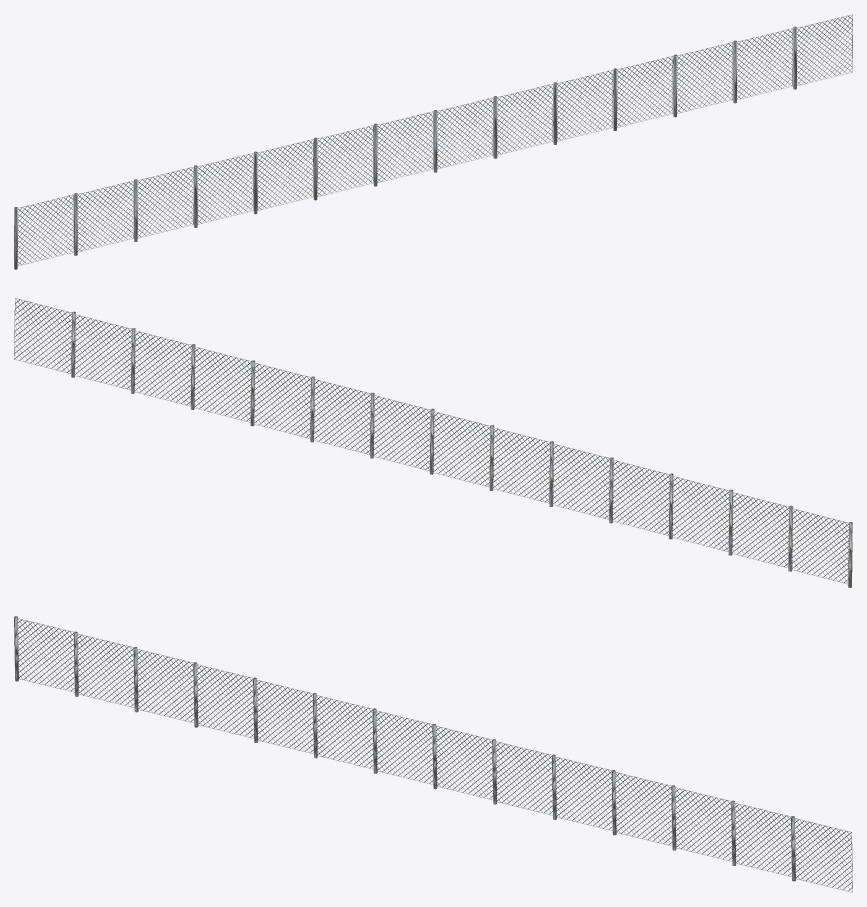
The model's file is fence6.obj.
3 renders of one model, top to bottom at view 1: azimuth 30°, elevation 25°; view 2: azimuth 150°, elevation 25°; view 3: azimuth 330°, elevation 25°, orthographic. The views are drawn at different scales.
Visible parts, largest first — view 1: Plane.005_Plane.007; view 2: Plane.005_Plane.007; view 3: Plane.005_Plane.007.
Part boxes in pixels (x1,y1,x2,y2): Plane.005_Plane.007: [14, 14, 852, 269]; Plane.005_Plane.007: [14, 298, 852, 587]; Plane.005_Plane.007: [14, 616, 852, 892].
Size of the model in its own units: 81.21 by 6.29 by 3.05.
Materials: 1 (1 with a texture image).
